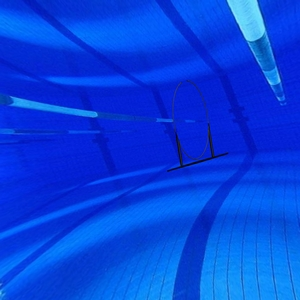circle: (166, 77, 231, 175)
